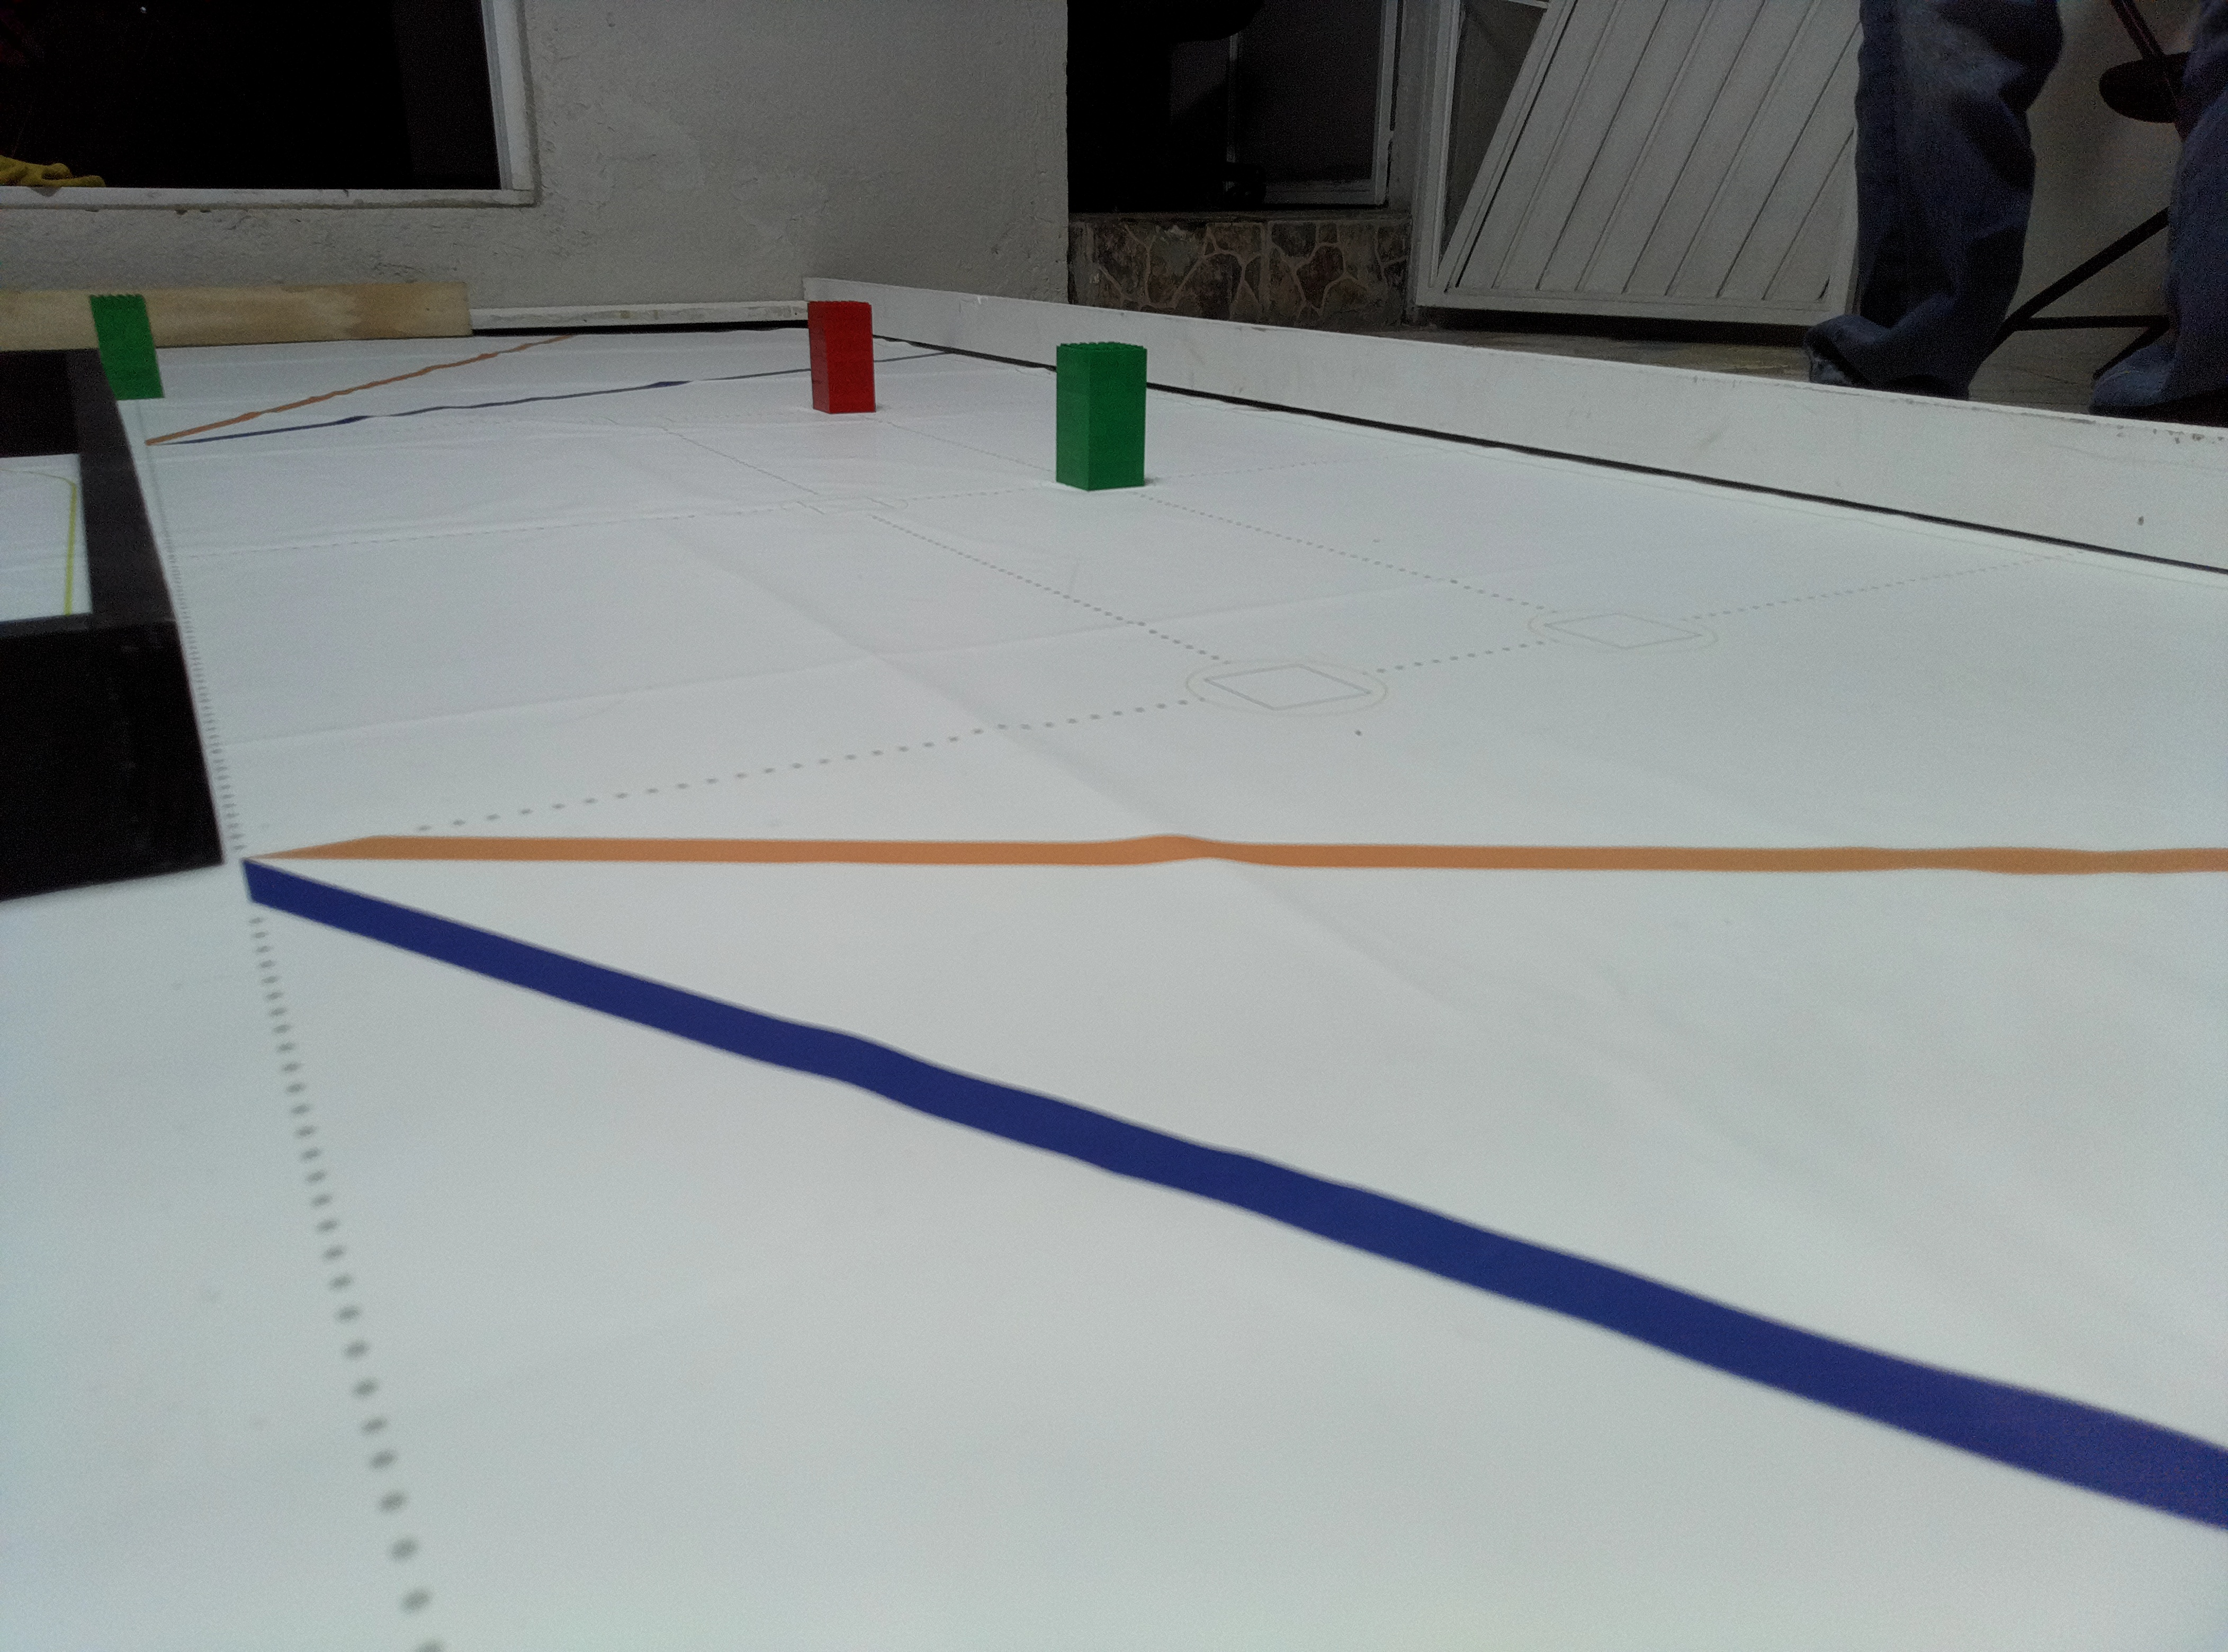greenbox: (1052, 340, 1149, 492), (87, 293, 167, 403)
redbox: (805, 301, 878, 414)
